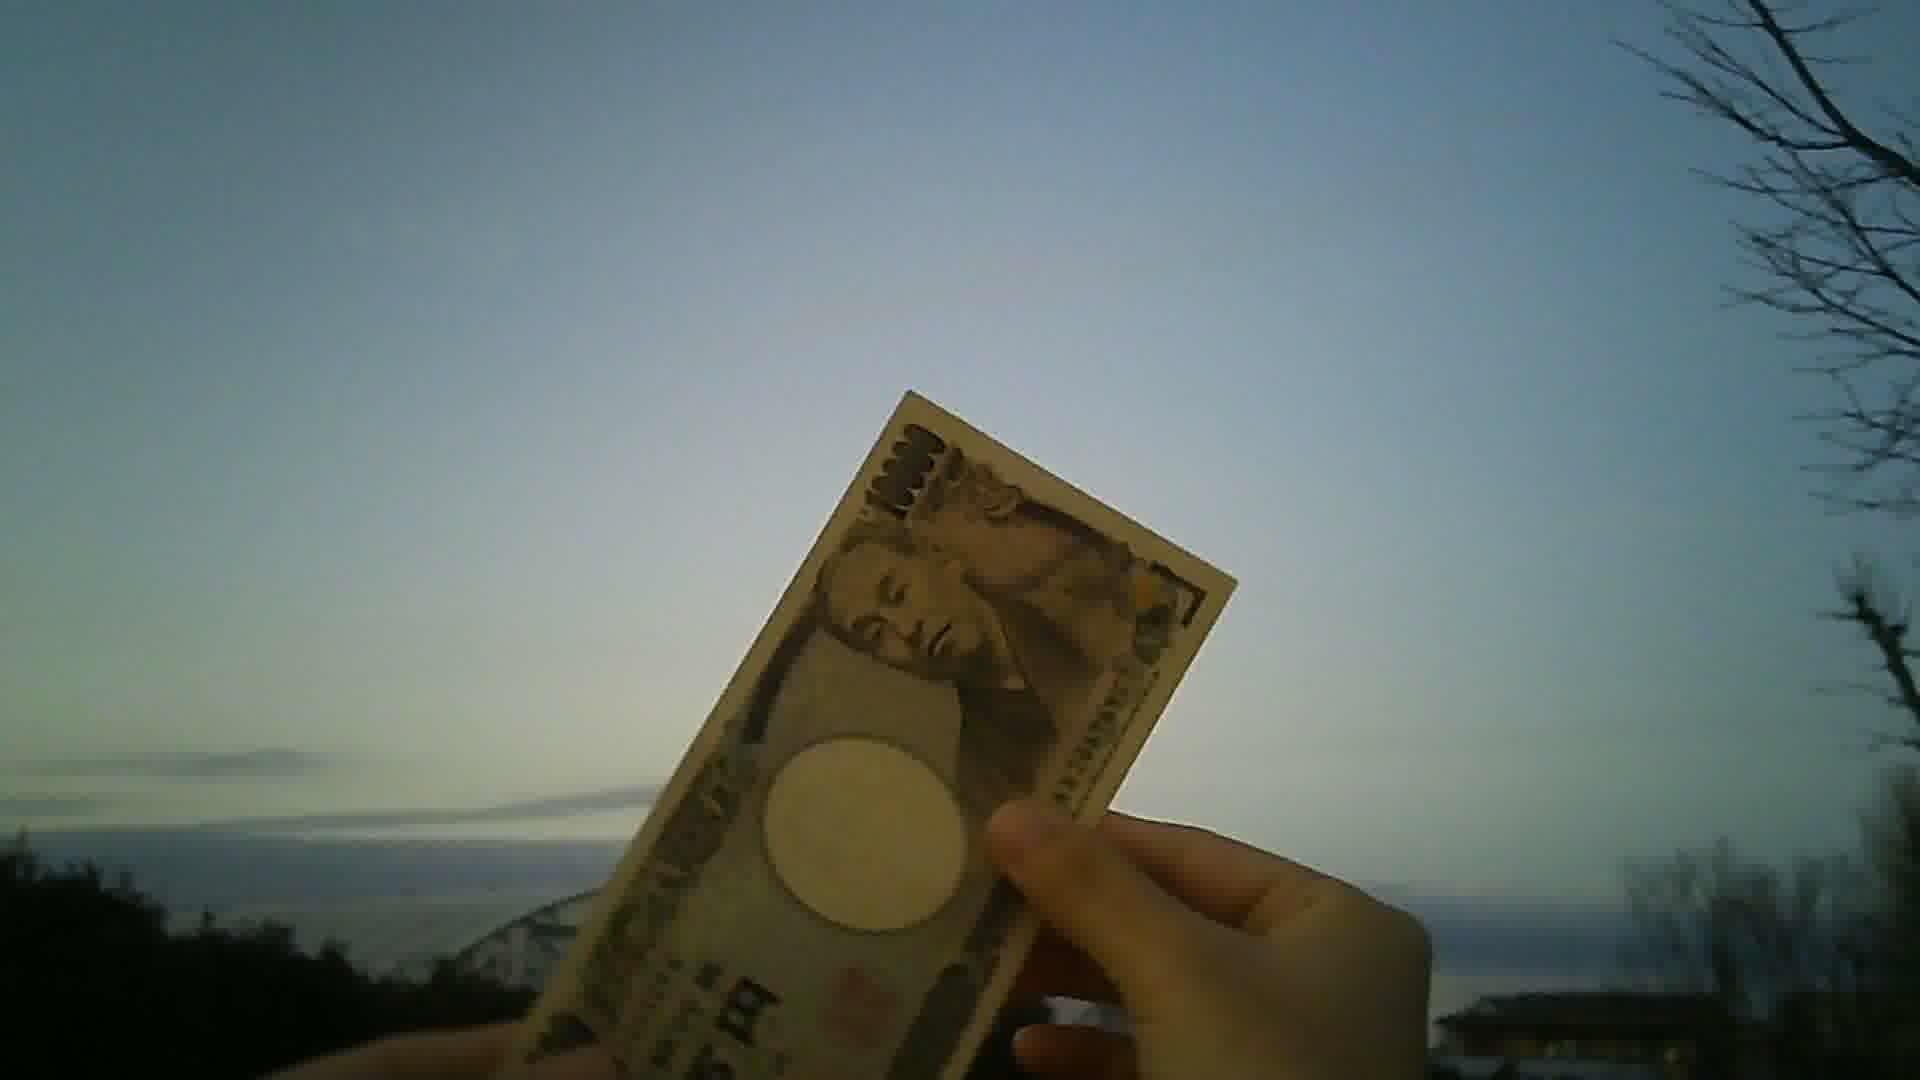10,000 Yen: (506, 380, 1247, 1079)
